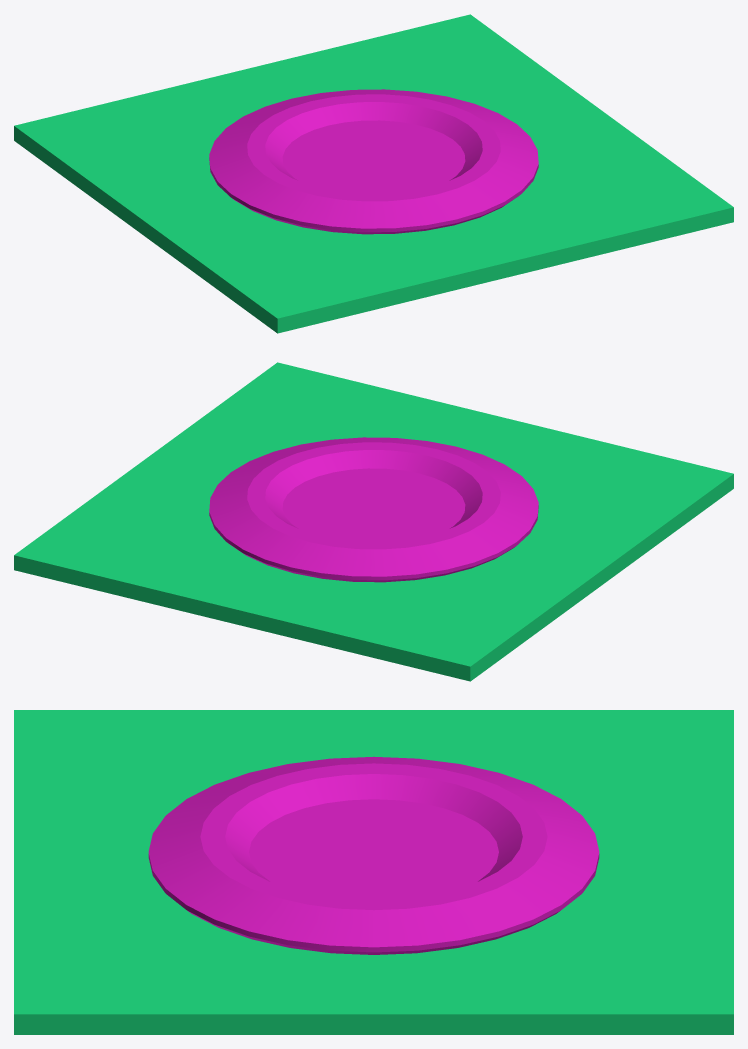
The model's file is flag_board.fbx.
3 views of the same model, one above another, from view 1: azimuth 30°, elevation 25°; view 2: azimuth 150°, elevation 25°; view 3: azimuth 270°, elevation 25° (orthographic). The views are drawn at different scales.
Parts seen in each view (by area): view 1: Cube; view 2: Cube; view 3: Cube.
Boxes of the visible parts, <box> form: Cube: <box>14,14,733,333</box>; Cube: <box>14,362,733,681</box>; Cube: <box>14,710,733,1034</box>.
Size of the model in its own units: 128 by 9 by 128.
